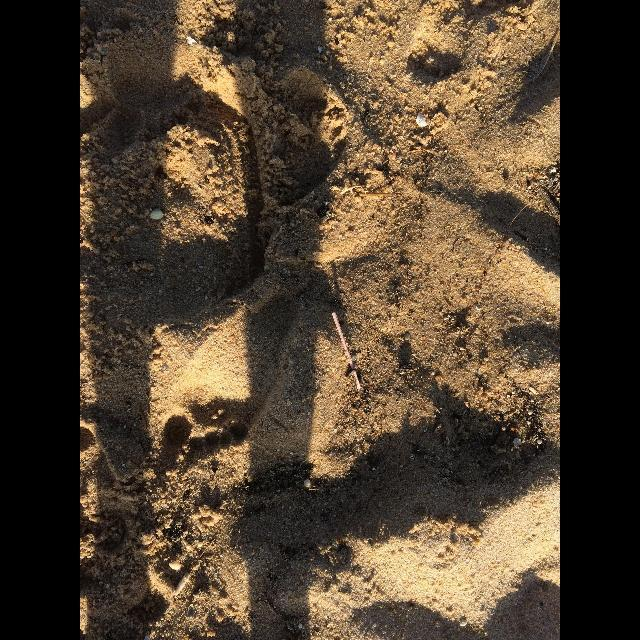Plastic: (332, 312, 361, 388)
